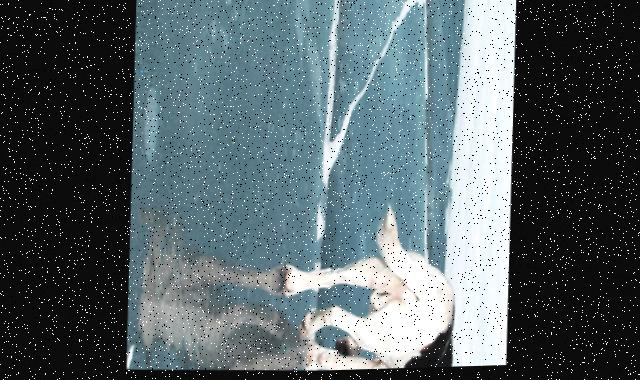dog: (266, 218, 461, 374)
